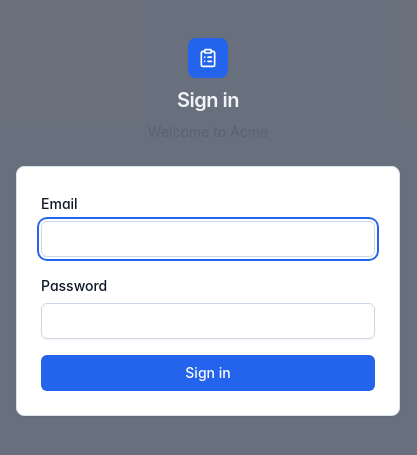
Test: LoginPage › validates on the client before calling the API
Click the button "Sign in". click: click(208, 373)
box: [41, 355, 375, 391]
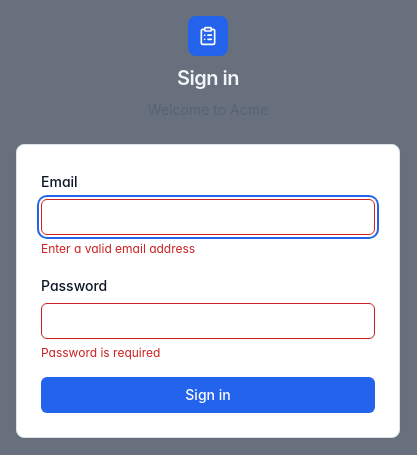
expect the text "Enter a valid email address" is shown: met, box [41, 241, 195, 256]
expect the text "Password is required" is shown: met, box [41, 345, 160, 360]
